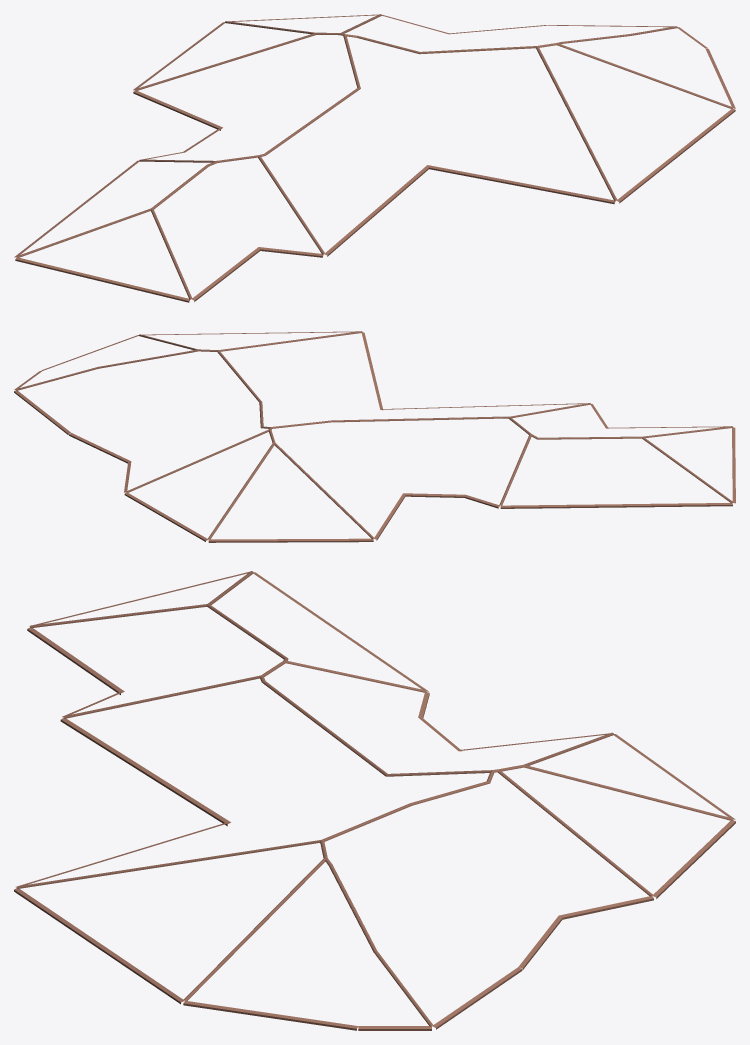
The picture shows the model from 3 angles, top to bottom: view 1: azimuth 30°, elevation 25°; view 2: azimuth 150°, elevation 25°; view 3: azimuth 270°, elevation 25°; orthographic projection. The views are drawn at different scales.
Parts seen in each view (by area): view 1: detail; view 2: detail; view 3: detail.
Boxes of the visible parts, left/top/right/bottom form: detail: left=14, top=14, right=735, bottom=302; detail: left=14, top=331, right=735, bottom=542; detail: left=14, top=571, right=735, bottom=1030.
Bounding box in the file's own units: 75.25 × 5.95 × 50.22.
